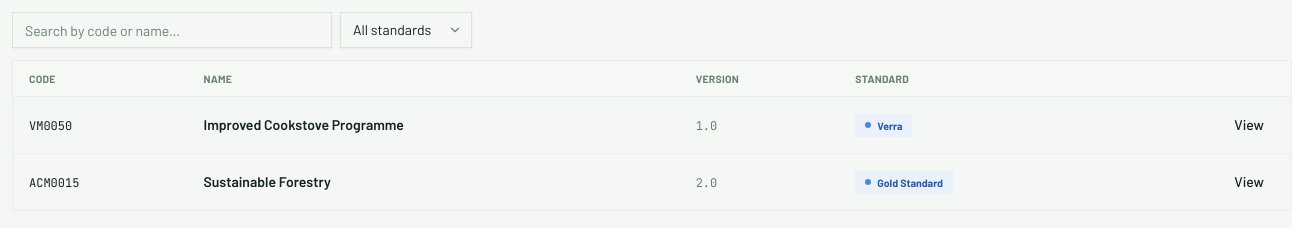
MethodologyTable › filters by search term across code and name
Type "ACM0015" into the field with placeholder "Search by code or name…" at x=172, y=30, box [12, 12, 332, 48]
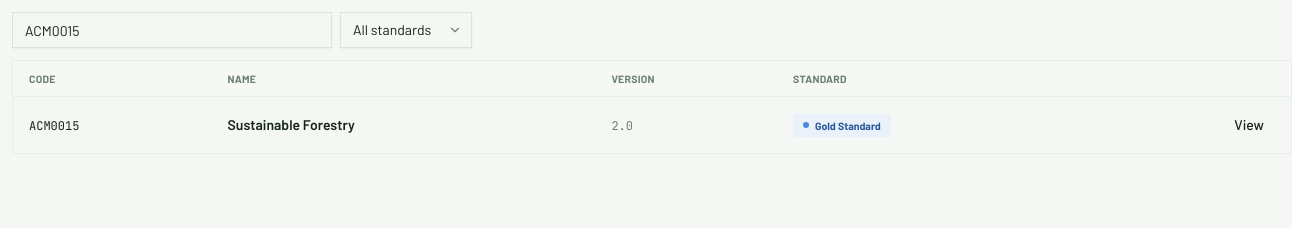
expect the text "Sustainable Forestry" is shown: met, box [228, 116, 355, 133]
expect the text "Improved Cookstove Programme" is gone: met
